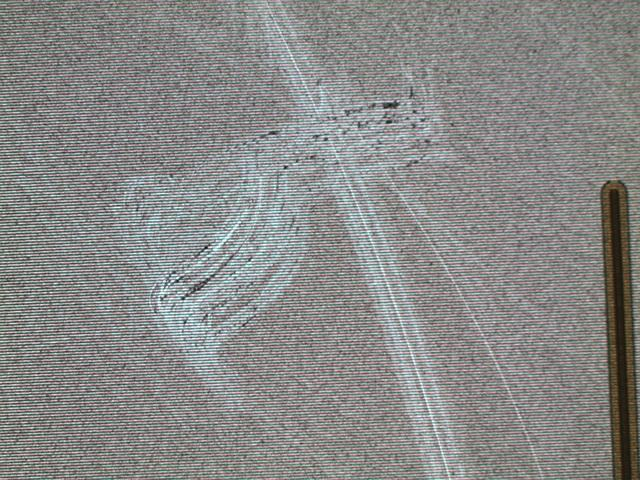SCRATCH: (100, 1, 614, 480)
